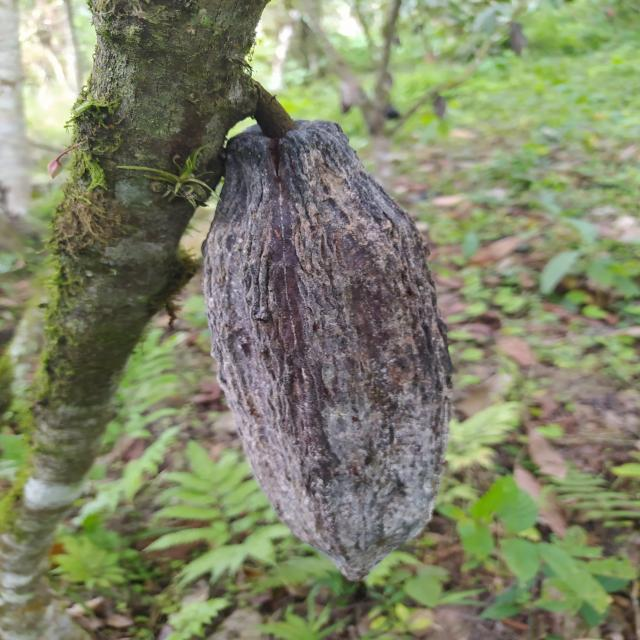Fitoftora: (202, 118, 454, 581)
